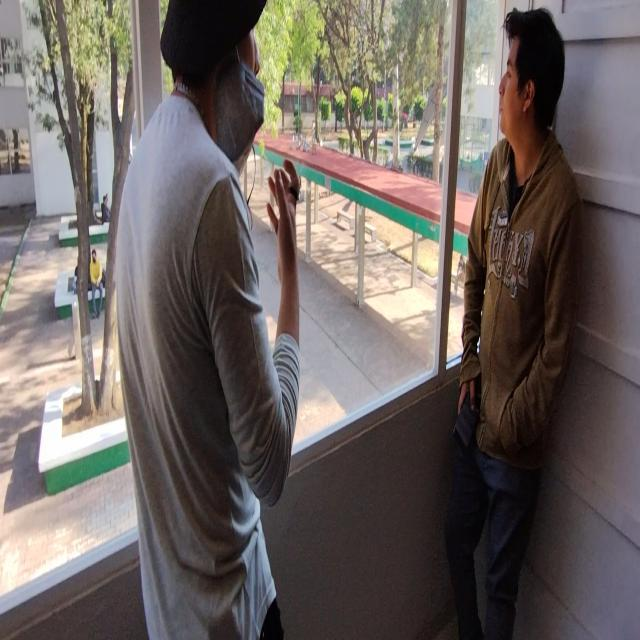adult: (116, 0, 301, 640), (442, 7, 577, 640), (89, 245, 104, 317)
